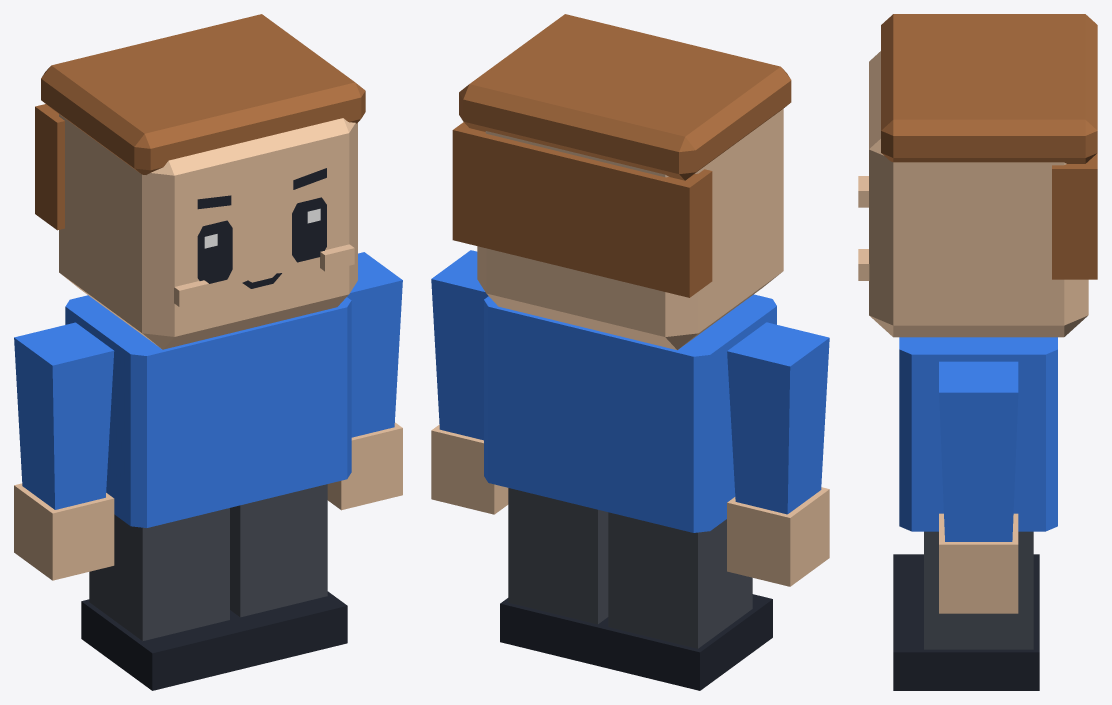
The model's file is townsperson-broad.glb.
3 renders of one model, left to right at view 1: azimuth 30°, elevation 25°; view 2: azimuth 150°, elevation 25°; view 3: azimuth 270°, elevation 25°, orthographic. The views are drawn at different scales.
Parts seen in each view (by area): view 1: head, body, hair, arm_R, leg_R, leg_L, shoe_R, arm_L, hand_R, face, shoe_L, hand_L; view 2: hair, body, head, arm_R, leg_R, leg_L, arm_L, shoe_R, hand_R, hand_L, shoe_L; view 3: hair, head, body, arm_L, shoe_L, leg_L, hand_L, shoe_R, face.
Boxes of the visible parts, x1,y1,x2,y2 form: head: (59,114,357,349); body: (65,295,351,527); hair: (35,14,365,230); arm_R: (14,322,114,509); leg_R: (89,508,229,640); leg_L: (230,484,327,617); shoe_R: (81,599,249,690); arm_L: (347,252,402,437); hand_R: (14,483,114,580); face: (174,168,354,306); shoe_L: (230,591,347,666); hand_L: (327,422,402,510); hair: (452,14,791,297); body: (484,294,776,532); head: (477,109,783,350); arm_R: (727,322,829,514); leg_R: (608,512,752,648); leg_L: (508,488,608,624); arm_L: (431,250,488,440); shoe_R: (600,594,772,690); hand_R: (727,487,829,586); hand_L: (431,424,508,514); shoe_L: (500,598,608,666); hair: (881,14,1097,279); head: (869,51,1088,337); body: (899,337,1057,531); arm_L: (939,361,1018,541); shoe_L: (893,603,1039,690); leg_L: (924,531,1033,649); hand_L: (939,513,1018,613); shoe_R: (893,554,1039,603); face: (858,176,869,280).
Size of the model in its own units: 1.36 by 2.08 by 0.785.
